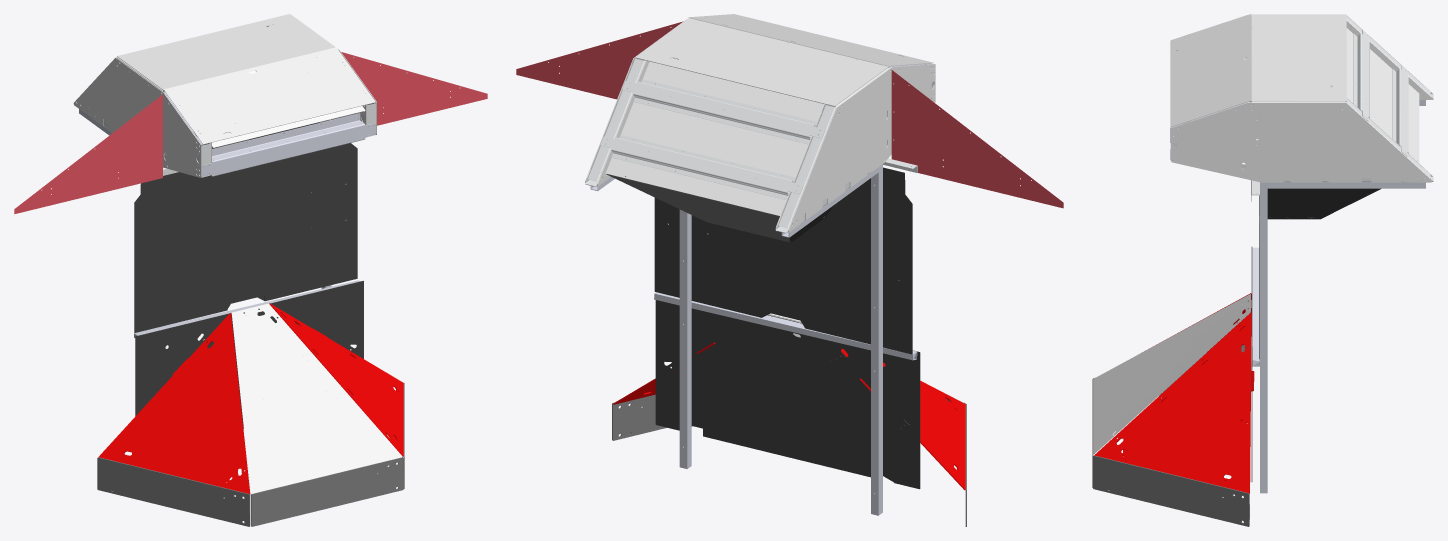
File: Speaker.fbx
3 renders of one model, left to right at view 1: azimuth 30°, elevation 25°; view 2: azimuth 150°, elevation 25°; view 3: azimuth 270°, elevation 25°, orthographic. The views are drawn at different scales.
Parts seen in each view (by area): view 1: GE-24322, GE-24343-Vinyl, GE-24333_Blue.001, GE-24314, GE-24315, GE-24332, GE-24328-Vinyl, GE-24312.001, GE-24333_Blue, GE-24335, GE-24335.001, GE-24328-Vinyl.001 (+3 smaller); view 2: GE-24332, GE-24322, GE-24316, GE-24315, GE-24328-Vinyl, GE-24312.001, GE-24318.001, GE-24318.002, GE-24328-Vinyl.001, GE-24301-02.002, GE-24333_Blue.001, GE-24301-02 (+6 smaller); view 3: GE-24312.003, GE-24333_Blue, GE-24315, GE-24343-Vinyl, GE-24314, GE-24335.002, GE-24316, GE-24307, GE-24301-02, GE-24318.001, GE-24318.002, GE-24301-01.004 (+4 smaller).
Boxes of the visible parts, x1=… form: GE-24322: x1=134, y1=143, x2=357, y2=332; GE-24343-Vinyl: x1=231, y1=303, x2=402, y2=493; GE-24333_Blue.001: x1=98, y1=313, x2=250, y2=494; GE-24314: x1=164, y1=47, x2=375, y2=144; GE-24315: x1=117, y1=14, x2=335, y2=90; GE-24332: x1=135, y1=280, x2=363, y2=428; GE-24328-Vinyl: x1=14, y1=94, x2=162, y2=214; GE-24312.001: x1=73, y1=57, x2=201, y2=177; GE-24333_Blue: x1=269, y1=303, x2=403, y2=456; GE-24335: x1=97, y1=457, x2=250, y2=526; GE-24335.001: x1=251, y1=457, x2=403, y2=526; GE-24328-Vinyl.001: x1=341, y1=52, x2=487, y2=125; GE-24332: x1=655, y1=300, x2=920, y2=489; GE-24322: x1=654, y1=167, x2=912, y2=354; GE-24316: x1=606, y1=61, x2=824, y2=215; GE-24315: x1=635, y1=18, x2=888, y2=106; GE-24328-Vinyl: x1=891, y1=70, x2=1063, y2=208; GE-24312.001: x1=788, y1=64, x2=935, y2=232; GE-24318.001: x1=600, y1=135, x2=803, y2=199; GE-24318.002: x1=622, y1=79, x2=825, y2=144; GE-24328-Vinyl.001: x1=516, y1=21, x2=683, y2=99; GE-24301-02.002: x1=871, y1=164, x2=882, y2=515; GE-24333_Blue.001: x1=840, y1=349, x2=965, y2=490; GE-24301-02: x1=679, y1=209, x2=691, y2=468; GE-24312.003: x1=1171, y1=102, x2=1431, y2=182; GE-24333_Blue: x1=1094, y1=313, x2=1254, y2=493; GE-24315: x1=1251, y1=14, x2=1346, y2=101; GE-24343-Vinyl: x1=1093, y1=294, x2=1250, y2=454; GE-24314: x1=1170, y1=14, x2=1251, y2=127; GE-24335.002: x1=1093, y1=455, x2=1249, y2=526; GE-24316: x1=1346, y1=28, x2=1419, y2=162; GE-24307: x1=1267, y1=188, x2=1380, y2=219; GE-24301-02: x1=1260, y1=182, x2=1267, y2=493; GE-24318.001: x1=1392, y1=65, x2=1408, y2=156; GE-24318.002: x1=1353, y1=29, x2=1369, y2=121; GE-24301-01.004: x1=1267, y1=182, x2=1425, y2=188.
Size of the model in its own units: 324 by 250 by 197.
